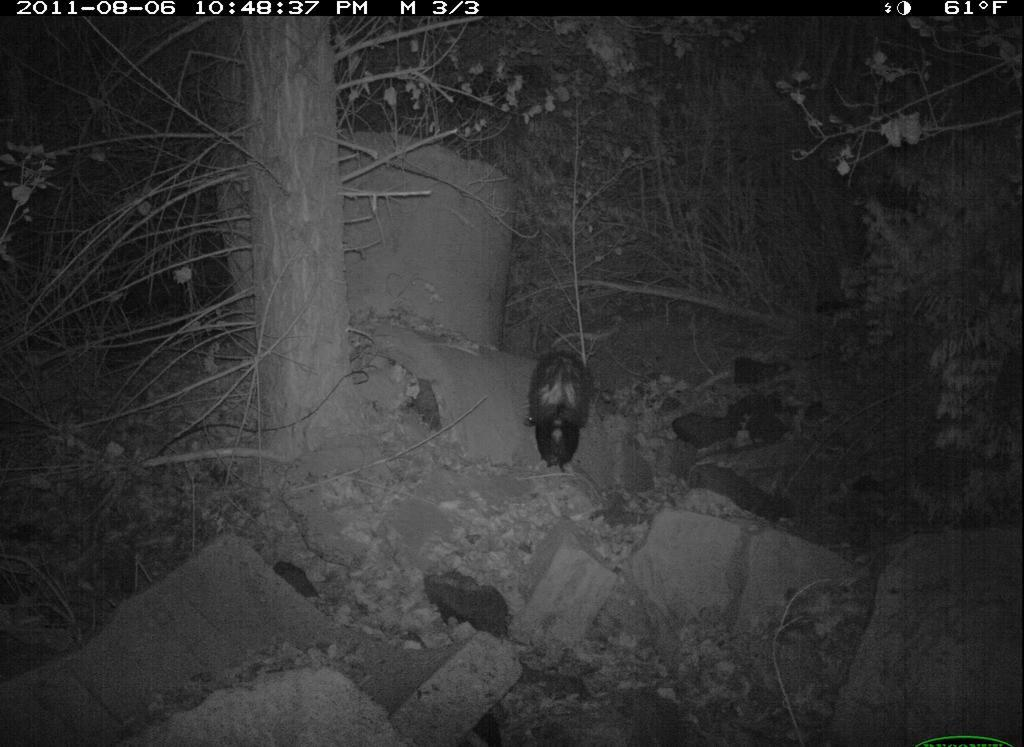skunk: (519, 331, 611, 478)
